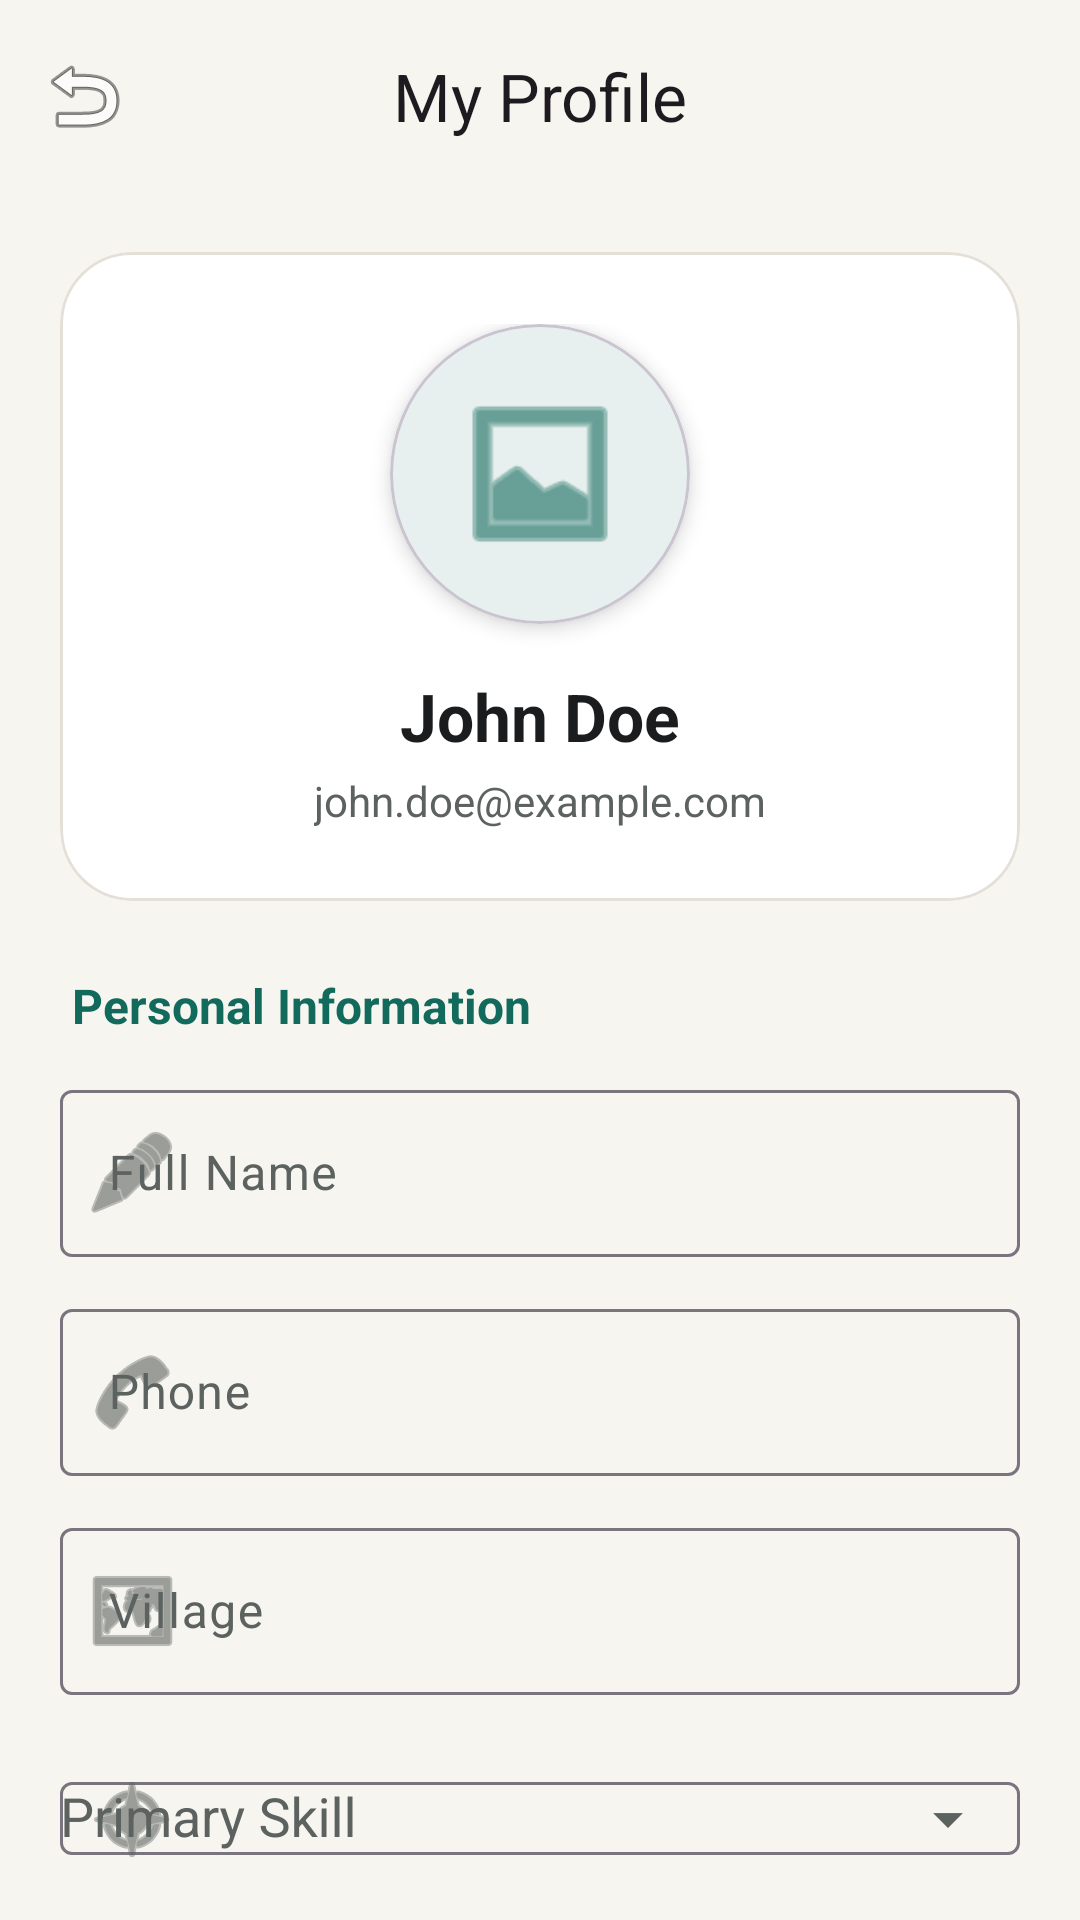

Point at icon controls on the screen. Image size 1080 x 1920, points as (x,y).
gallery: (540,474)
